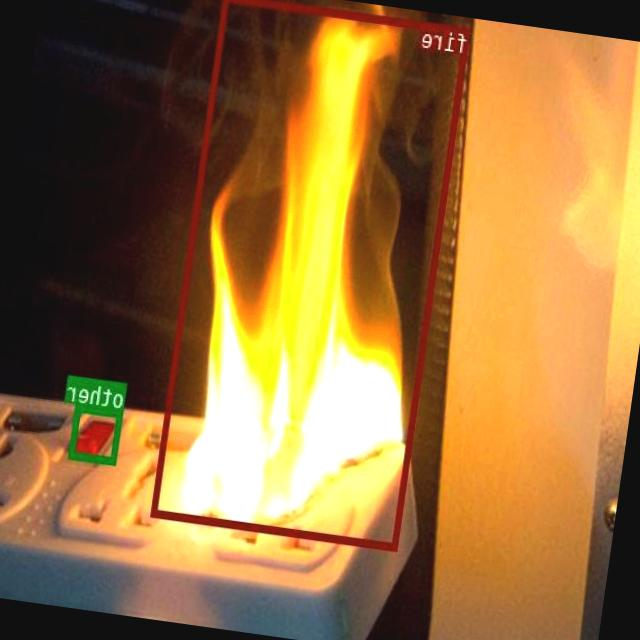fire: (152, 0, 471, 550)
